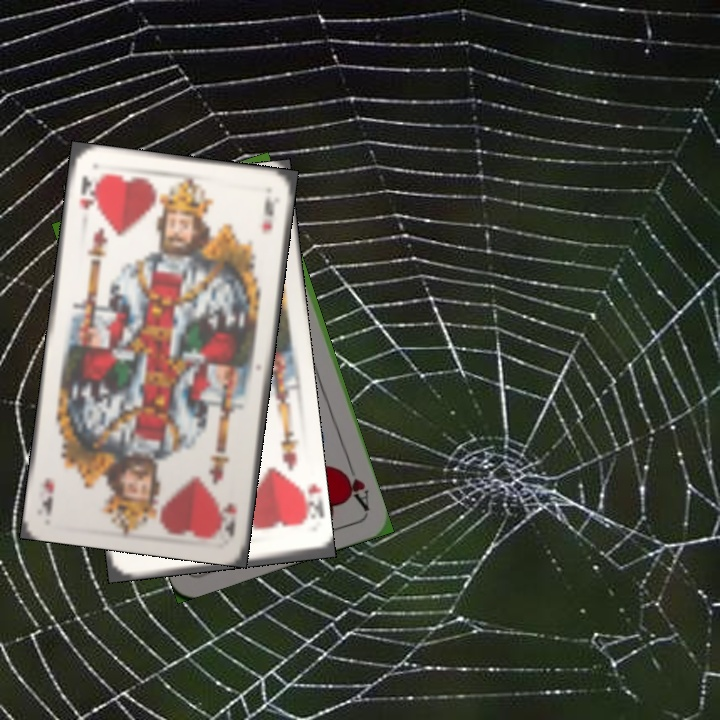HA: (337, 456, 372, 514)
HK: (291, 476, 323, 528), (76, 170, 102, 212), (215, 498, 239, 539)
